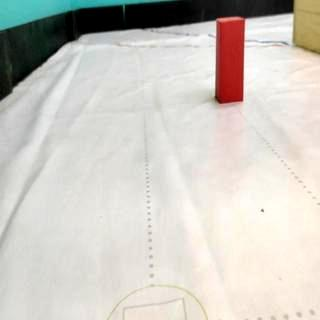redbox: (215, 16, 246, 104)
